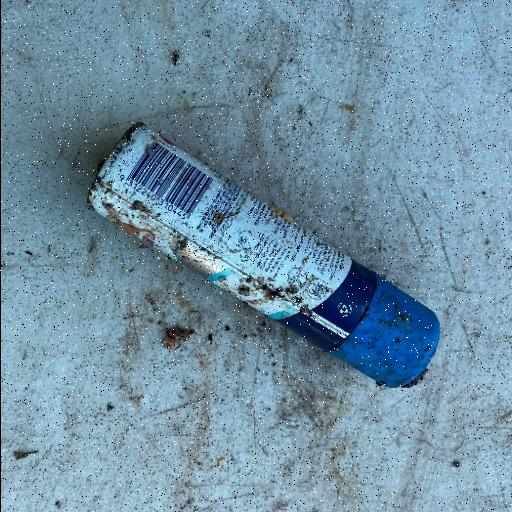Metal: (86, 120, 442, 390)
